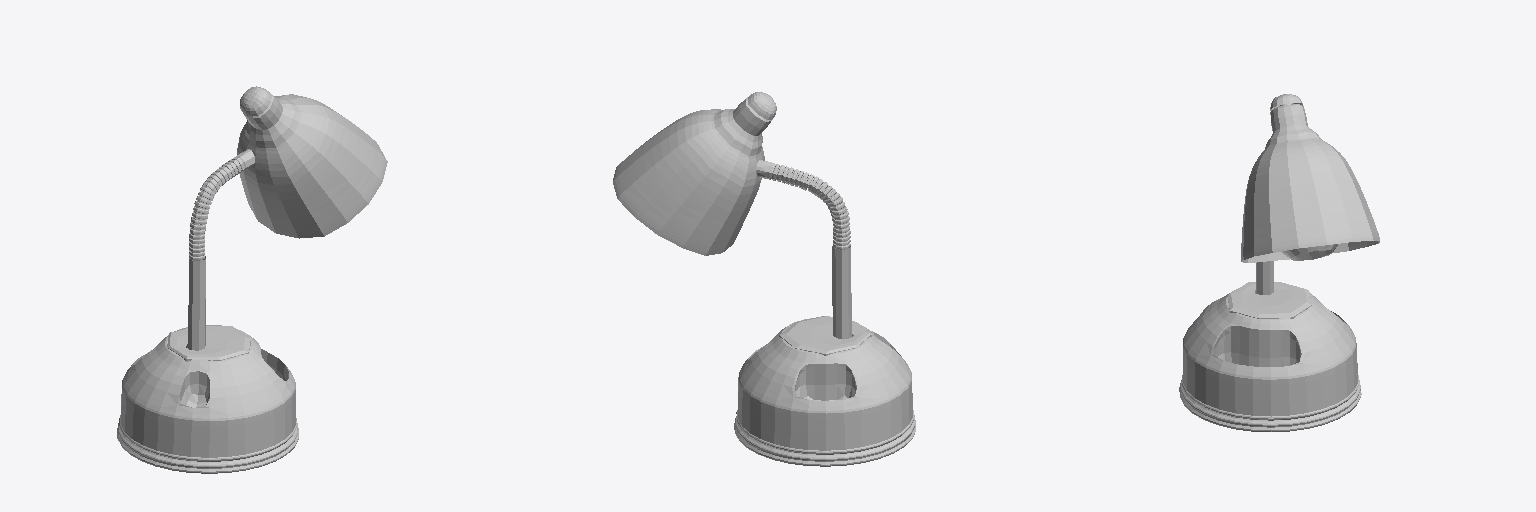
File: lamp.obj
3 views of the same model, side by side, from view 1: azimuth 30°, elevation 25°; view 2: azimuth 150°, elevation 25°; view 3: azimuth 270°, elevation 25° (orthographic).
Visible parts, largest first — view 1: Lamp.003_Lamp; view 2: Lamp.003_Lamp; view 3: Lamp.003_Lamp.
Part boxes in pixels (left/top/right/bottom): Lamp.003_Lamp: left=117, top=86, right=387, bottom=473; Lamp.003_Lamp: left=613, top=92, right=915, bottom=466; Lamp.003_Lamp: left=1179, top=94, right=1379, bottom=431.
Bounding box in the file's own units: 5.24 × 6.22 × 3.46.